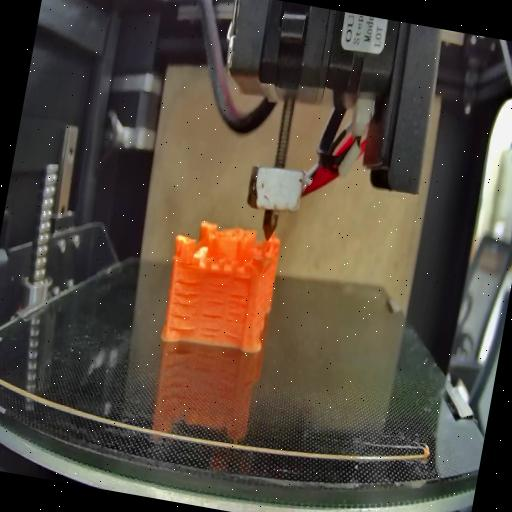cracks: (166, 274, 206, 332), (196, 278, 227, 340), (224, 286, 250, 339), (232, 270, 252, 284)
